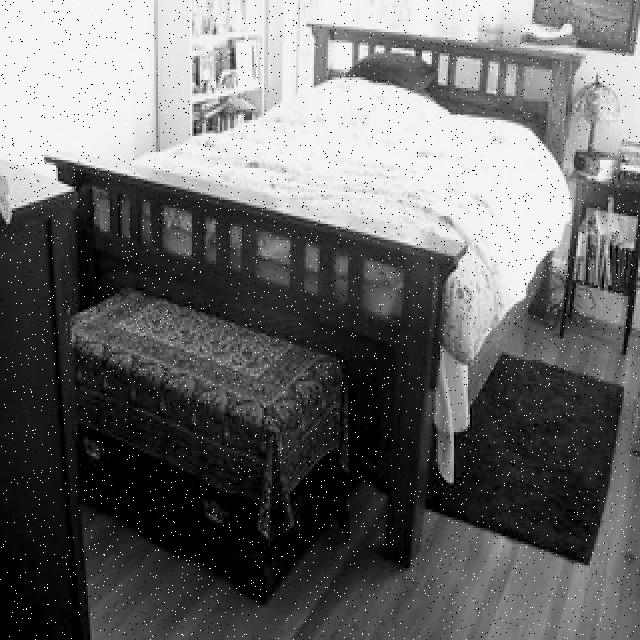bed: (72, 30, 578, 300)
